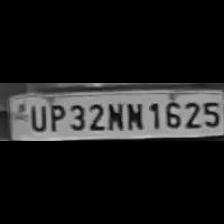1: (145, 100, 161, 130)
2: (85, 99, 105, 130), (182, 99, 200, 129)
3: (66, 99, 86, 130)
5: (198, 98, 222, 128)
6: (162, 98, 180, 130)
N: (123, 99, 145, 131), (104, 99, 124, 130)
P: (46, 102, 64, 132)
U: (26, 101, 46, 131)
